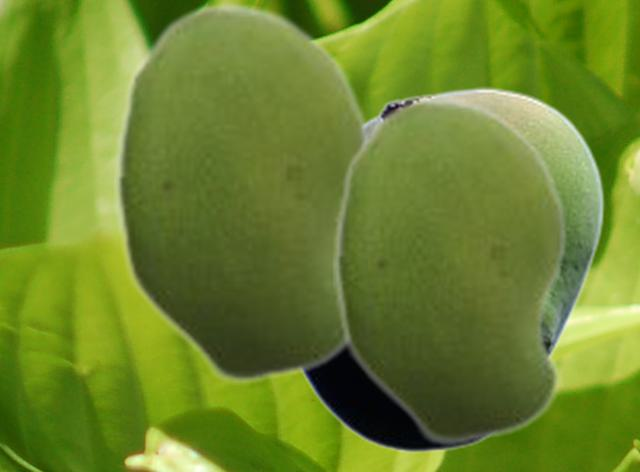green_mango: (298, 86, 605, 452), (114, 1, 371, 386), (333, 95, 568, 447)
